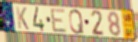2: (90, 10, 105, 37)
4: (33, 6, 46, 33)
8: (107, 11, 122, 38)
E: (50, 8, 68, 33)
K: (15, 5, 30, 31)
Q: (69, 9, 85, 35)
